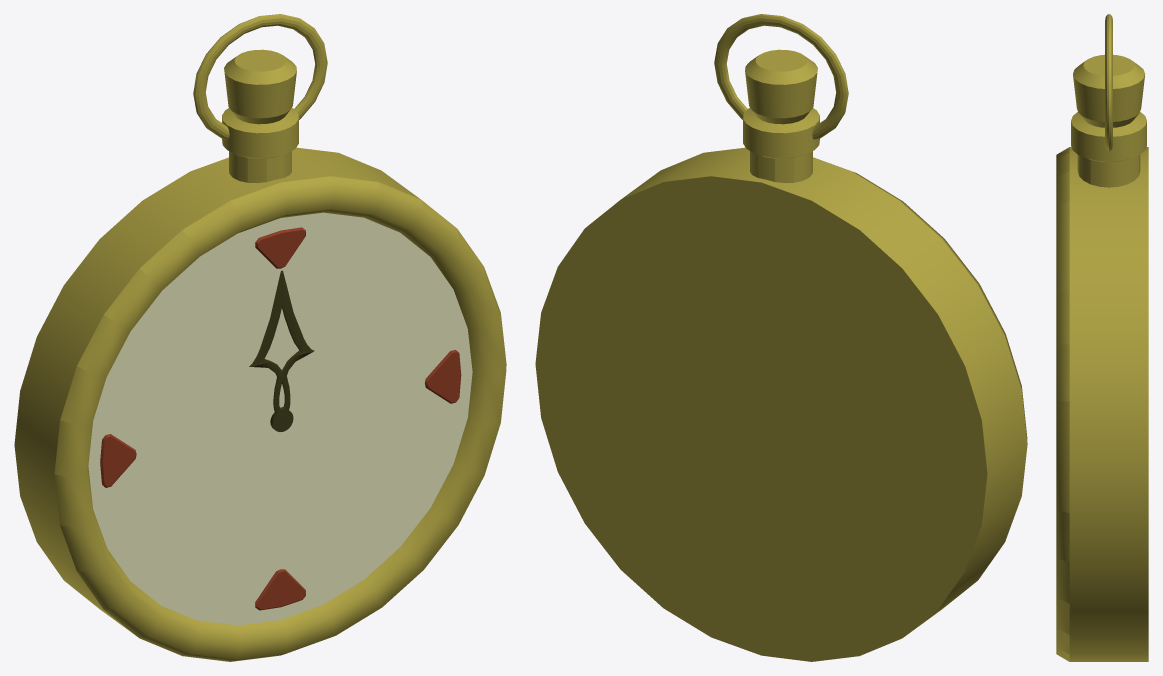
The model's file is watch.fbx.
3 views of the same model, side by side, from view 1: azimuth 30°, elevation 25°; view 2: azimuth 150°, elevation 25°; view 3: azimuth 270°, elevation 25° (orthographic).
Visible parts, largest first — view 1: watch; view 2: watch; view 3: watch.
Part boxes in pixels (x1,y1,x2,y2): watch: (14,14,506,661); watch: (535,14,1027,661); watch: (1056,14,1148,661).
Size of the model in its own units: 13.05 by 17.23 by 2.33.
